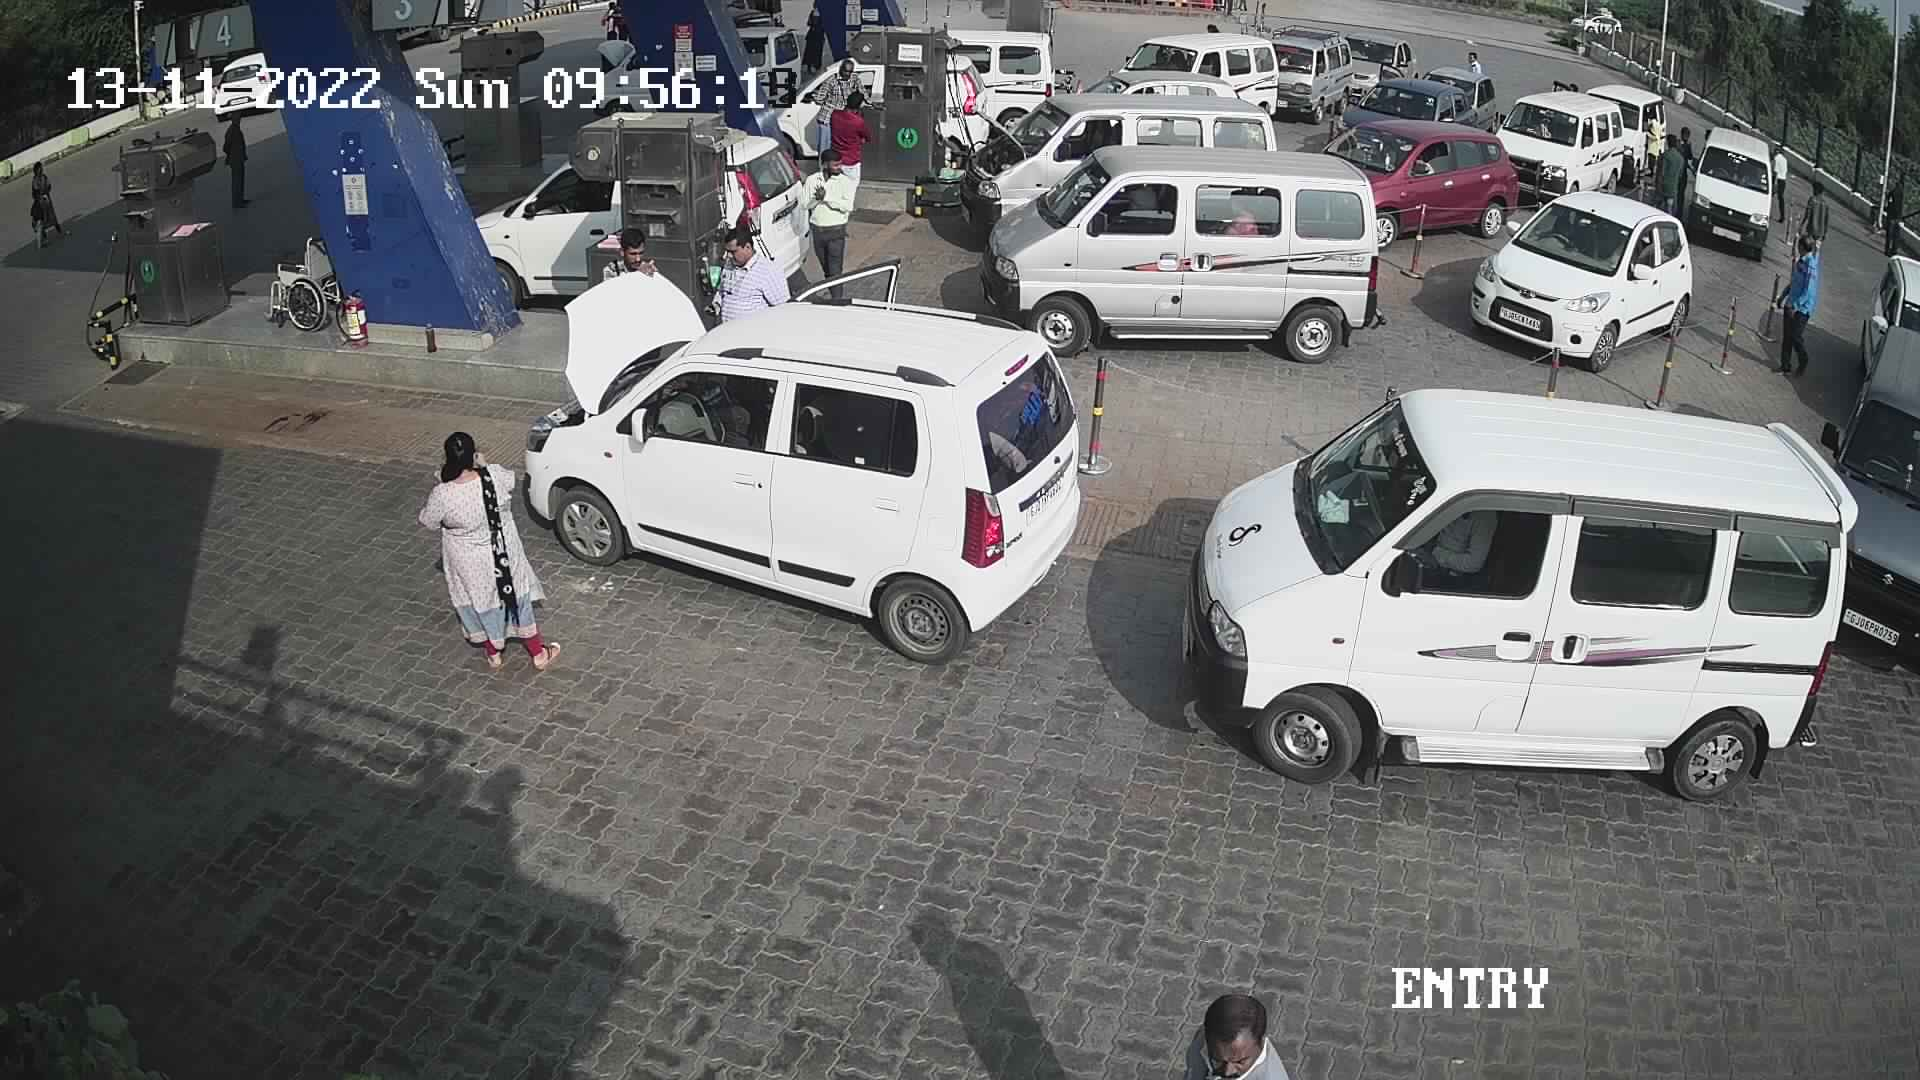Car: (1166, 378, 1869, 822), (510, 253, 1092, 671), (998, 154, 1390, 355), (938, 80, 1279, 248), (1460, 178, 1697, 376), (1801, 314, 1917, 684), (869, 11, 1079, 166), (1312, 107, 1526, 249), (1076, 26, 1286, 131), (712, 127, 825, 314), (1480, 86, 1629, 212), (1679, 113, 1782, 266), (1578, 76, 1675, 193), (1257, 18, 1358, 128), (1849, 247, 1917, 405), (729, 11, 812, 113), (202, 40, 285, 128), (1344, 22, 1422, 113)
